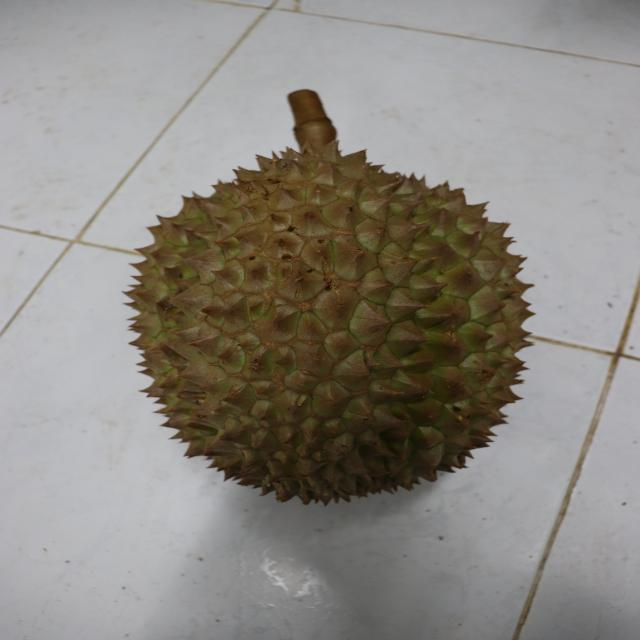mature: (124, 150, 543, 508)
